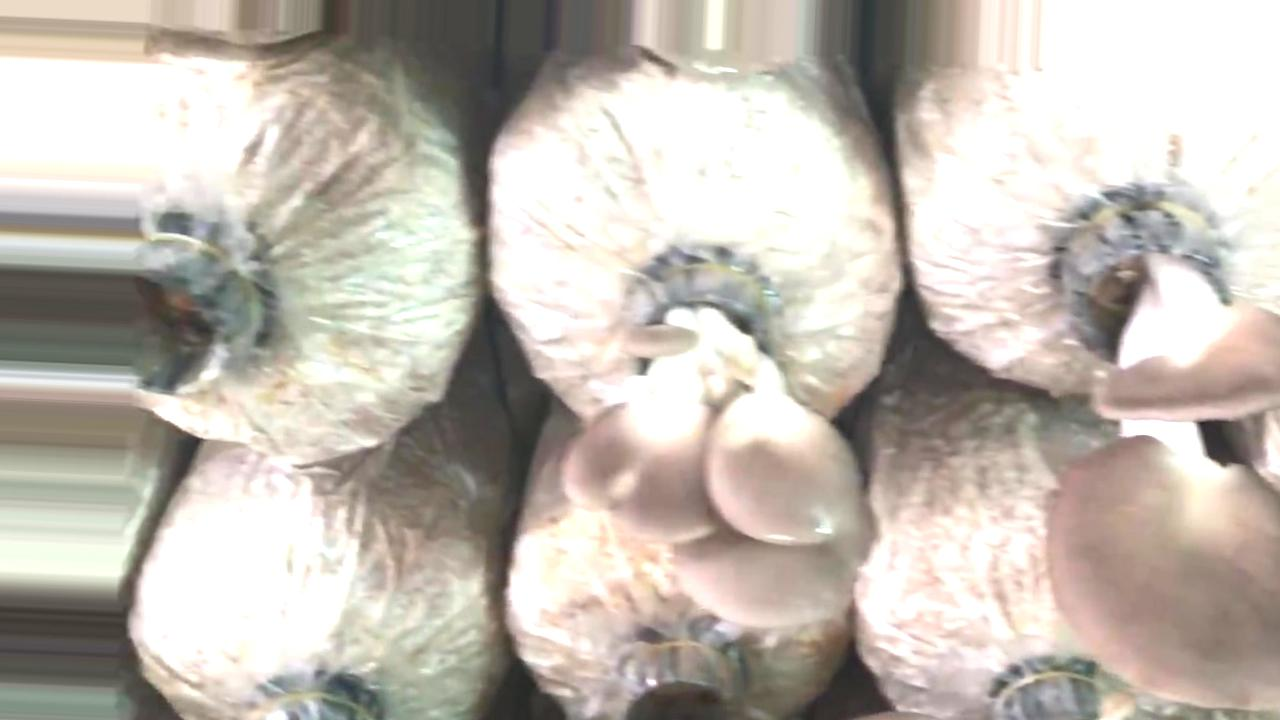nam: (1041, 202, 1280, 712), (555, 262, 882, 630)
